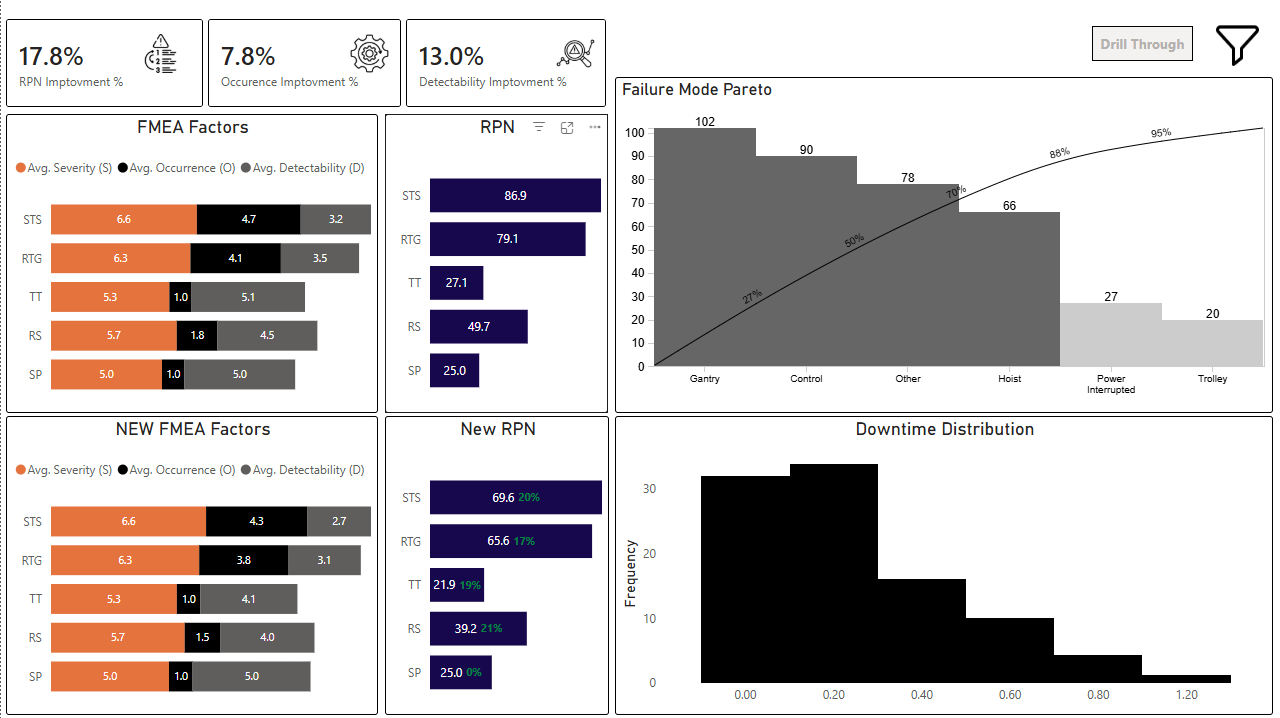

The dashboard page shown, as its layout file describes it:
{"tool":"powerbi","page":{"name":"RPN & Pareto Analysis","canvas":[1280,720],"ordinal":1},"visuals":[{"type":"actionButton","box":[1090.9,26.3,101.6,34.5],"z":0},{"type":"cardVisual","fields":{"Data":["_Measures.Reduction Rate"]},"box":[5.4,19,196.8,88],"z":1000},{"type":"cardVisual","fields":{"Data":["_Measures.O Imptovment %"]},"box":[207.2,19,193.1,88],"z":2000},{"type":"cardVisual","fields":{"Data":["_Measures.Detectability Imptovment %"]},"box":[405.3,19,199.5,88],"z":3000},{"type":"image","box":[136,33.6,46.2,39.9],"z":4000},{"type":"image","box":[345.5,33.6,46.2,39.9],"z":5000},{"type":"image","box":[551.3,33.6,46.2,39.9],"z":6000},{"type":"paretoEDD8E69761BA4B7BB3AA6D813990D7BF","fields":{"values":["Count(FMEA Output.WO#)"],"categories":["FMEA Output.Category","FMEA Output.Keyword"]},"box":[613.9,77.1,658.3,335.5],"z":7000},{"type":"barChart","title":"FMEA Factors","fields":{"Category":["FMEA Output.Equipment Class"],"Y":["Avg(FMEA Output.Severity (S))","Avg(FMEA Output.Occurrence (O))","Avg(FMEA Output.Detectability (D))"]},"box":[5.4,114.3,371.8,298.3],"z":8000},{"type":"barChart","title":"RPN","fields":{"Category":["FMEA Output.Equipment Class"],"Y":["Avg(FMEA Output.RPN)"]},"box":[384,114.3,223.1,298.3],"z":9000},{"type":"barChart","title":"NEW FMEA Factors","fields":{"Category":["FMEA Output.Equipment Class"],"Y":["Avg(FMEA Output.New Severity (S))","Avg(FMEA Output.New Occurrence (O))","Avg(FMEA Output.New Detectability (D))"]},"box":[5.4,416.2,371.8,298.3],"z":10000},{"type":"barChart","title":"New RPN","fields":{"Category":["FMEA Output.Equipment Class"],"Y":["Avg(FMEA Output.New RPN)"]},"box":[384.5,416.2,223.1,298.3],"z":11000},{"type":"image","title":"ON","box":[1207,19,58,50.8],"z":12000},{"type":"clusteredColumnChart","title":"Downtime Distribution ","fields":{"Category":["FMEA Output.Downtime (hr.) (bins)"],"Y":["Sum(FMEA Output.Downtime (hr.))"]},"box":[613.9,416.2,658.3,298.3],"z":13000}]}

Visuals, with their boxes in screenshot pixels (x1, y1, x2, y2), scaled from the page's 1280x720 canvas onto the 1280x718 screenshot:
actionButton: bbox(1091, 26, 1192, 61)
cardVisual - _Measures.Reduction Rate: bbox(5, 19, 202, 107)
cardVisual - _Measures.O Imptovment %: bbox(207, 19, 400, 107)
cardVisual - _Measures.Detectability Imptovment %: bbox(405, 19, 605, 107)
image: bbox(136, 34, 182, 73)
image: bbox(346, 34, 392, 73)
image: bbox(551, 34, 598, 73)
paretoEDD8E69761BA4B7BB3AA6D813990D7BF - Count(FMEA Output.WO#) x FMEA Output.Category: bbox(614, 77, 1272, 411)
"FMEA Factors" barChart: bbox(5, 114, 377, 411)
"RPN" barChart: bbox(384, 114, 607, 411)
"NEW FMEA Factors" barChart: bbox(5, 415, 377, 713)
"New RPN" barChart: bbox(384, 415, 608, 713)
"ON" image: bbox(1207, 19, 1265, 70)
"Downtime Distribution " clusteredColumnChart: bbox(614, 415, 1272, 713)
